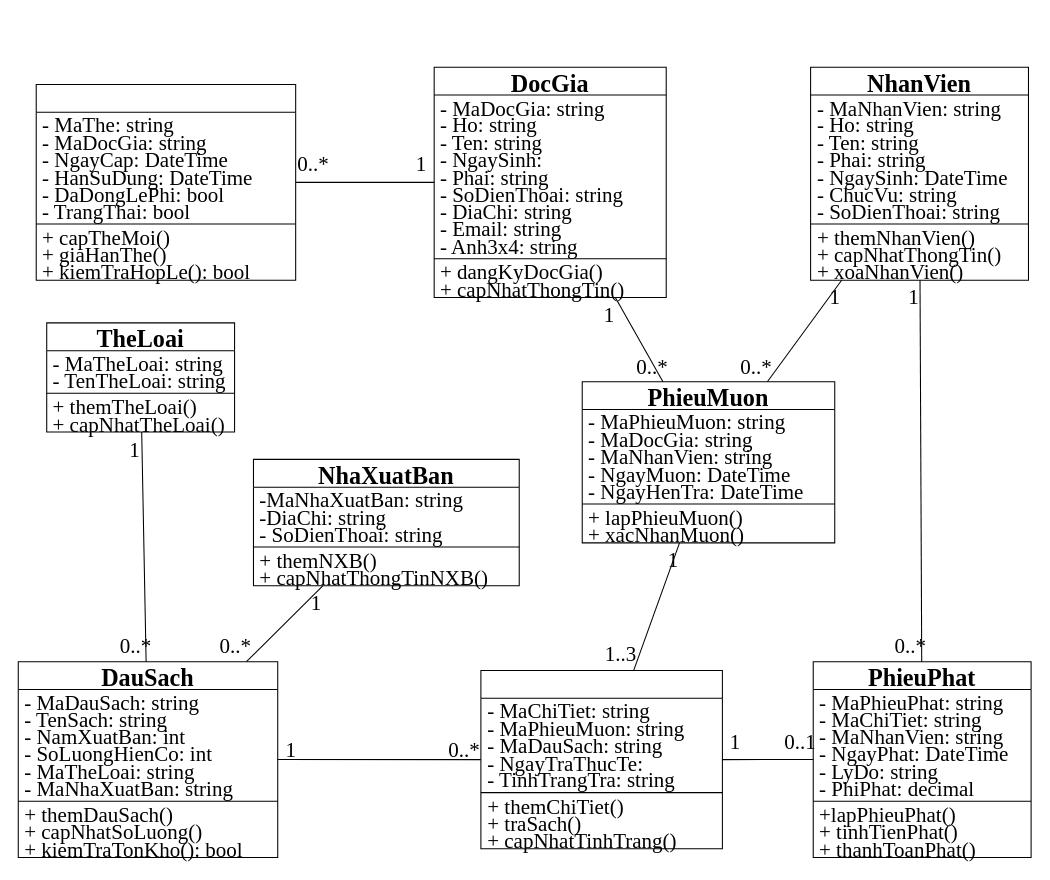
This 1050x880 diagram has some shape labels left out. Each missing label, with the box of its shape:
ChiTietPhieuMuon: (480, 669, 722, 849)
TheDocGia: (35, 83, 296, 280)
